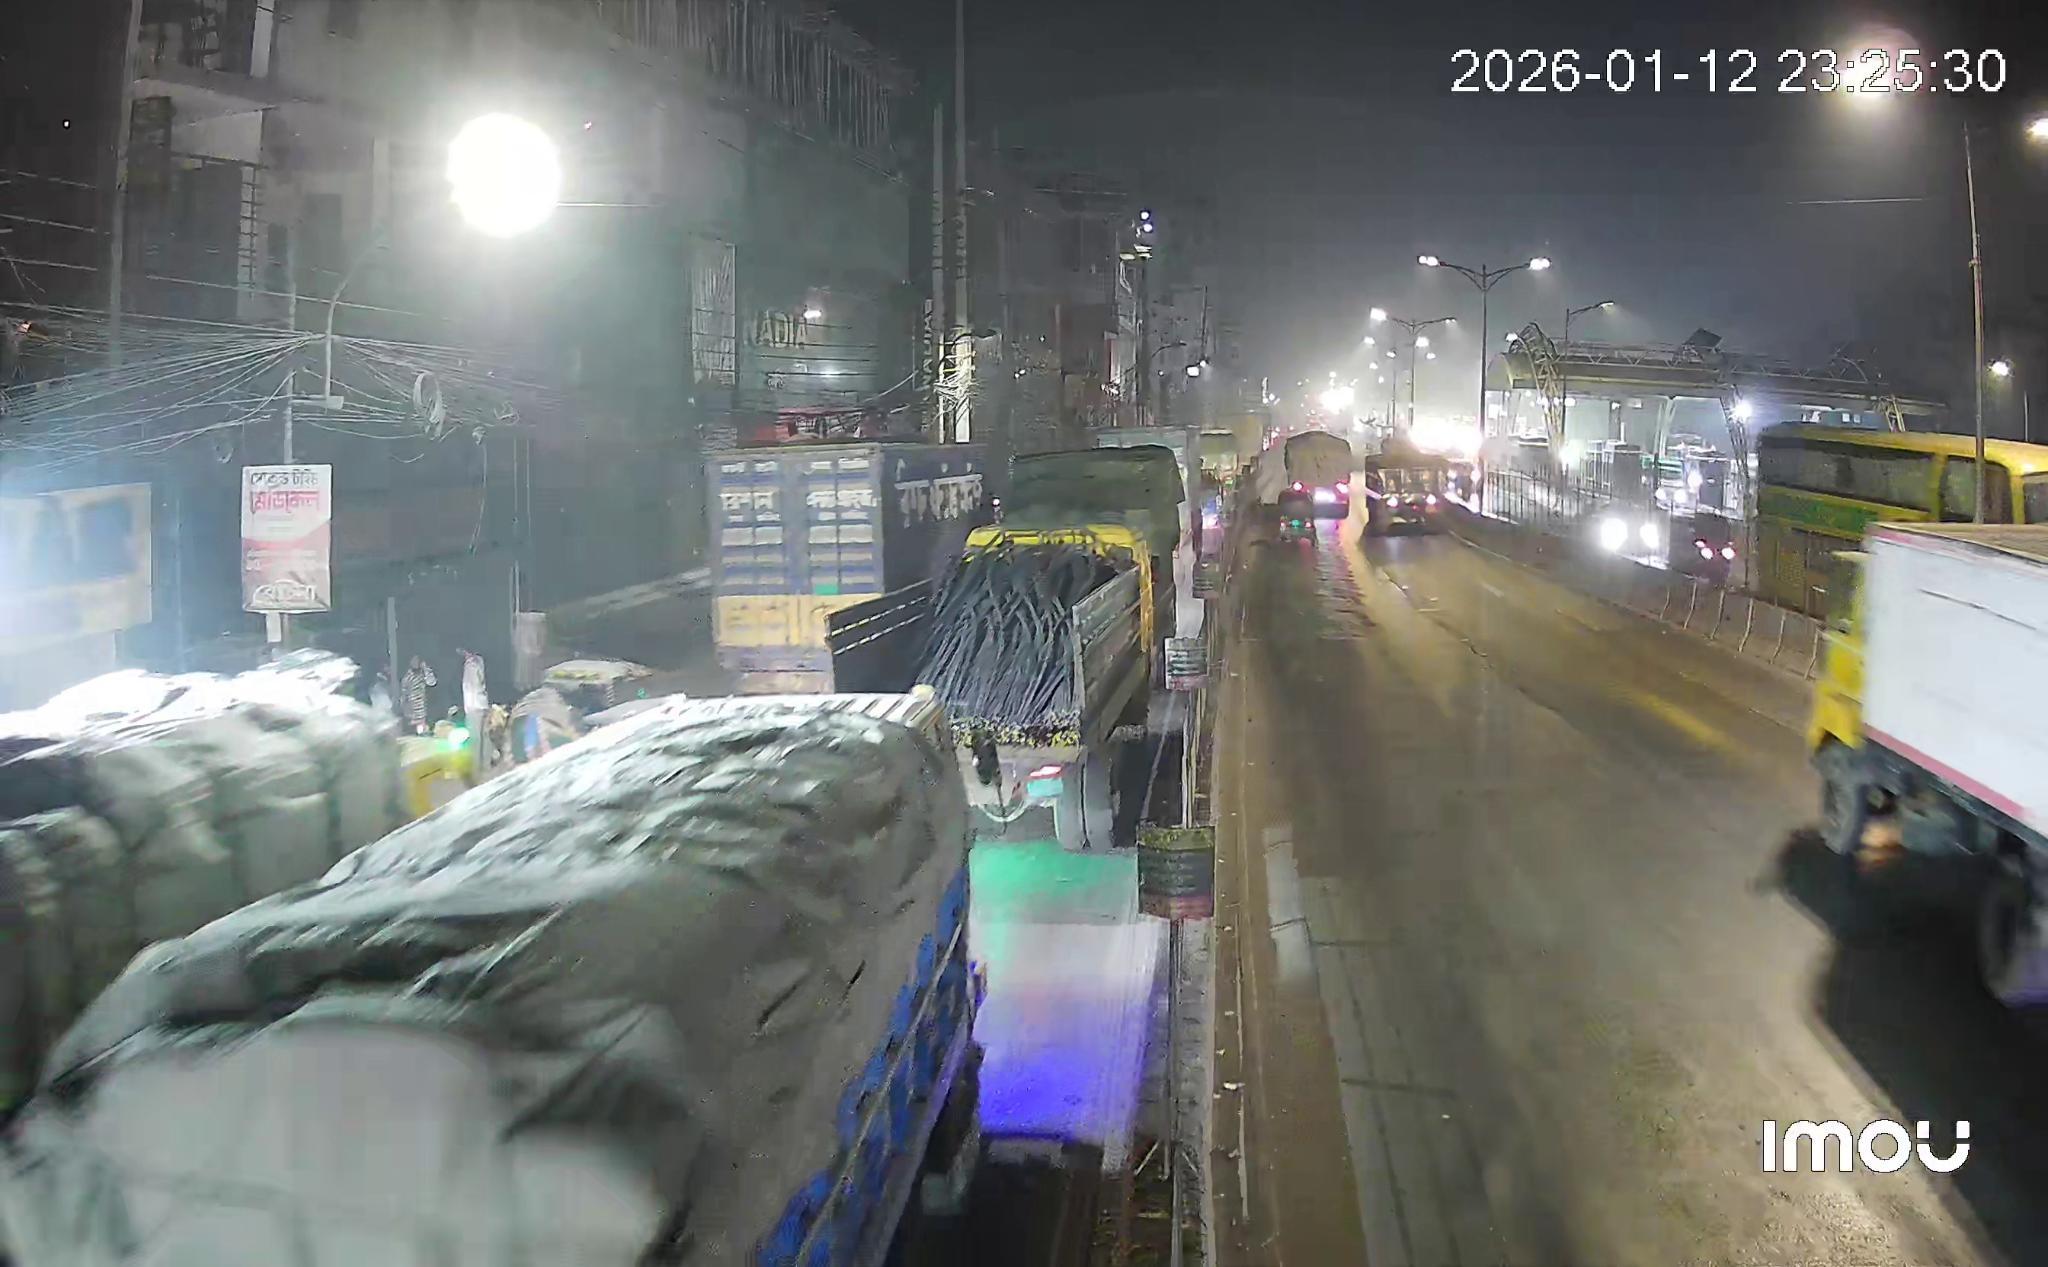Bus: (1750, 424, 1978, 616), (1984, 442, 2047, 524)
CNG-Tempo: (1277, 489, 1315, 543)
Truck: (0, 689, 985, 1267), (1805, 522, 2047, 1010), (827, 516, 1160, 849), (707, 440, 989, 686), (1360, 449, 1456, 535), (1284, 430, 1356, 519)
